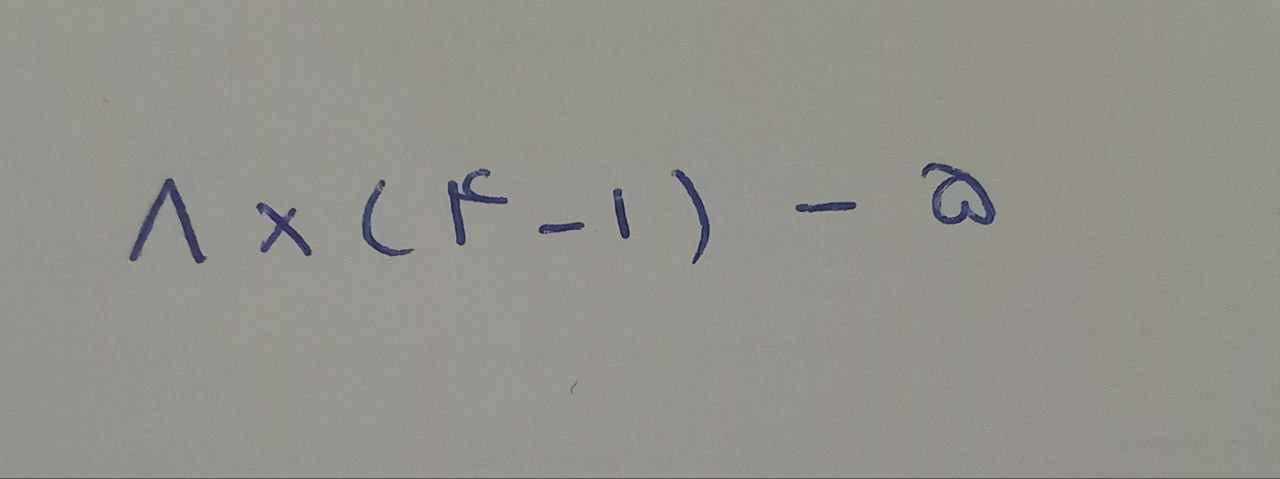character: (129, 178, 208, 261), (922, 164, 1007, 240), (446, 168, 510, 244), (362, 179, 411, 255), (671, 170, 706, 272), (255, 200, 312, 254), (610, 188, 632, 242), (793, 201, 859, 213), (537, 220, 585, 236)
